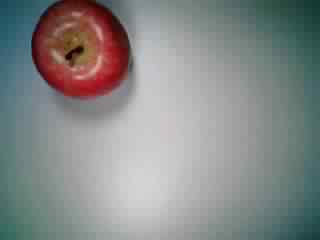apple: (31, 1, 135, 102)
